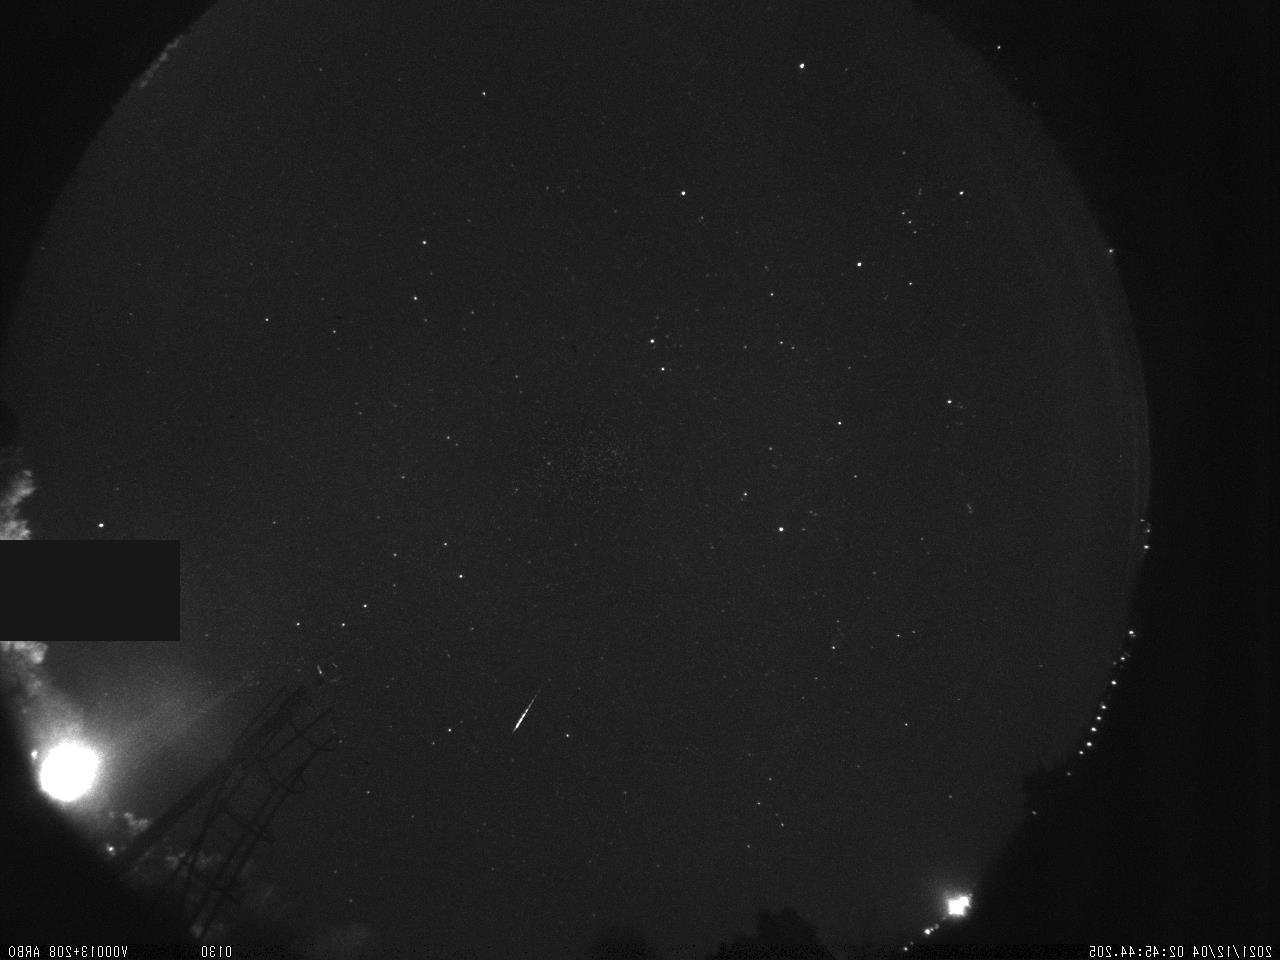meteor: (512, 679, 551, 734)
